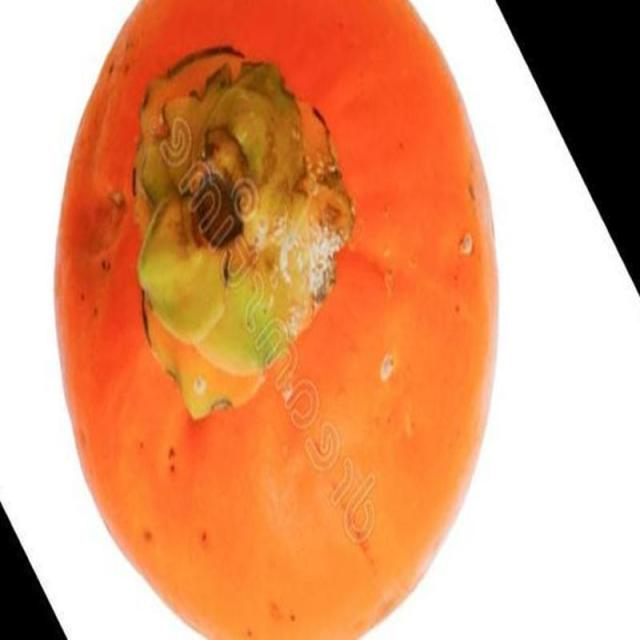good: (52, 0, 502, 639)
